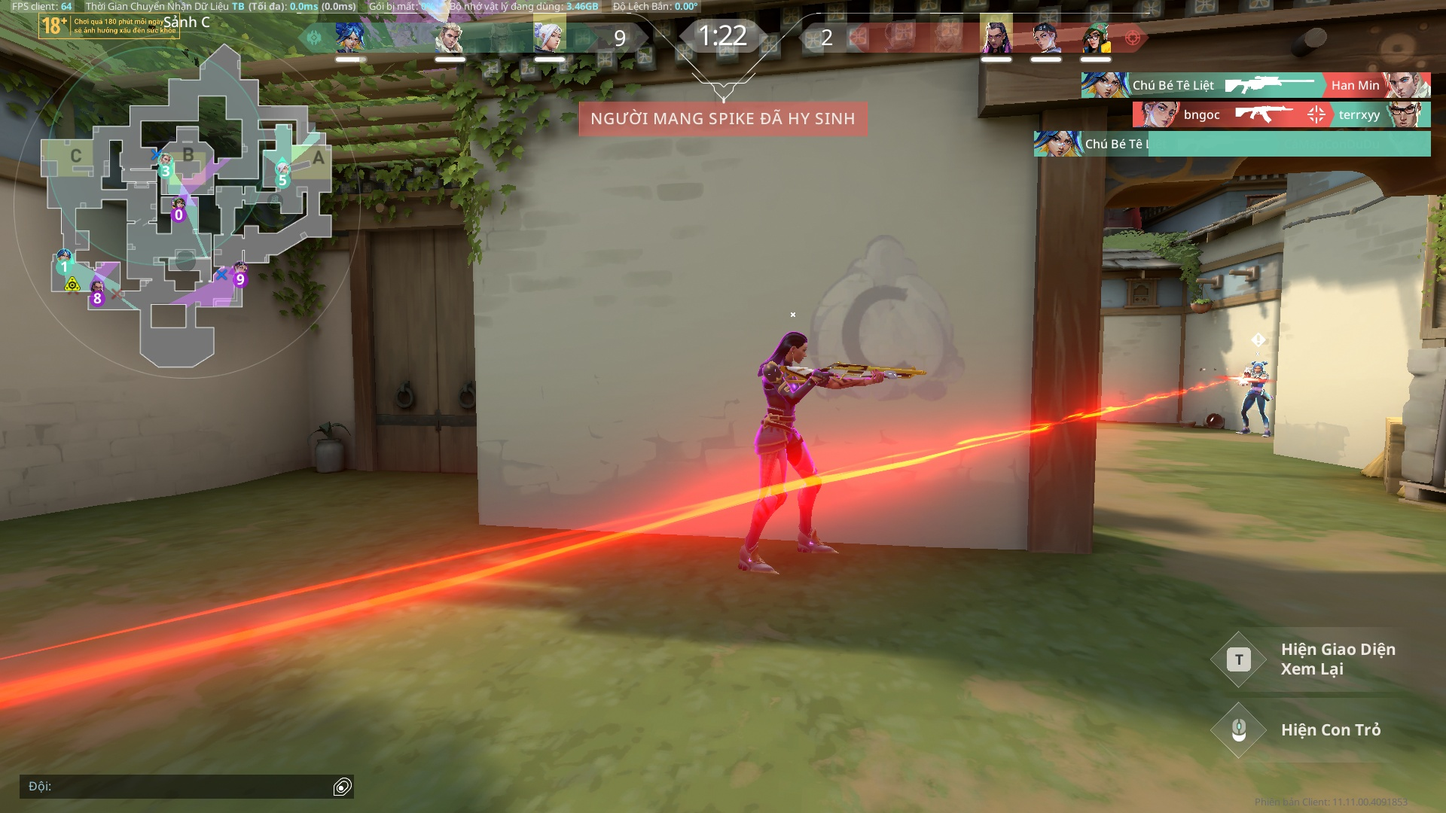body: (755, 355, 801, 419)
head: (778, 328, 807, 362)
